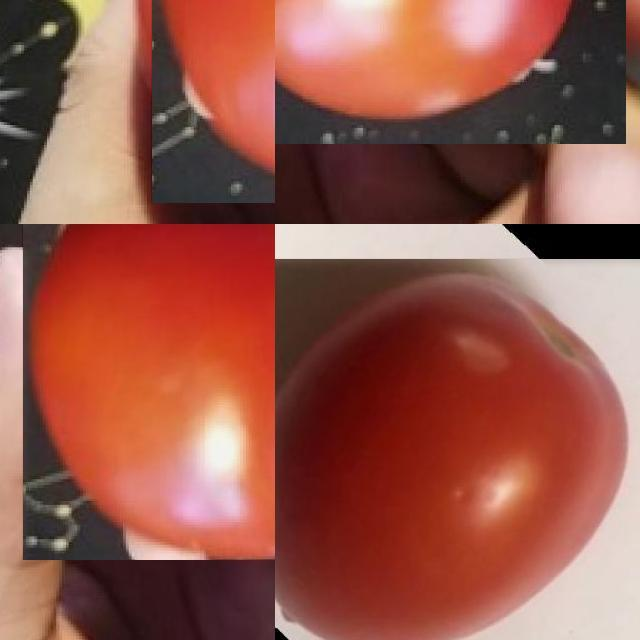Fresh Tomato: (275, 258, 640, 640), (22, 224, 275, 559), (275, 0, 625, 143), (151, 0, 275, 202)
